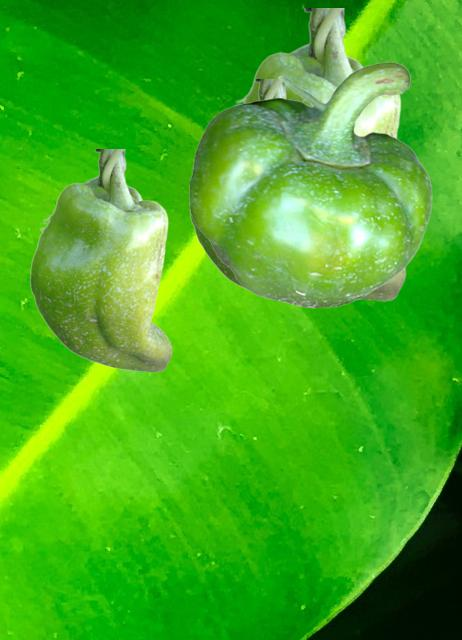bell_pepper: (189, 61, 431, 307), (232, 8, 405, 300), (29, 149, 171, 371), (189, 79, 286, 288)
